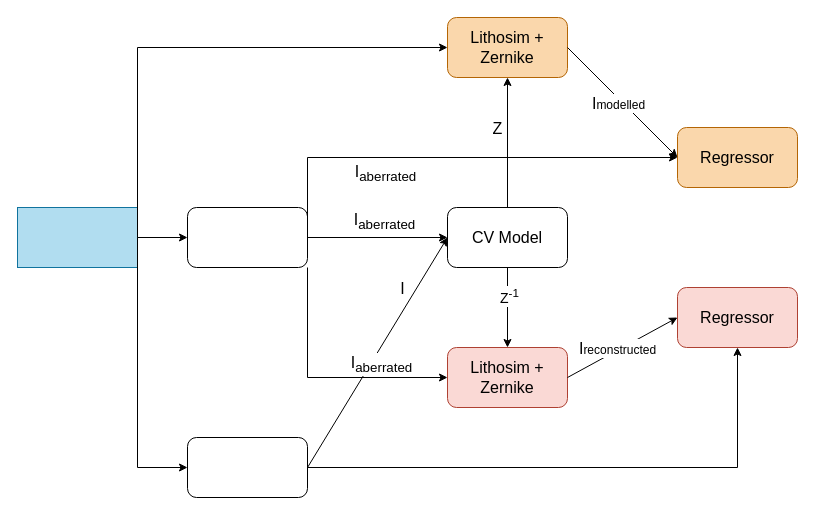
The diagram is 815 pixels wide and 515 high, and some of its shapes have lost their labels. The centre of each missing label's shape, as x and y in pixels:
Aberrated lithosim: point (247, 237)
Designed mask: point (77, 237)
L ithosim: point (247, 467)
